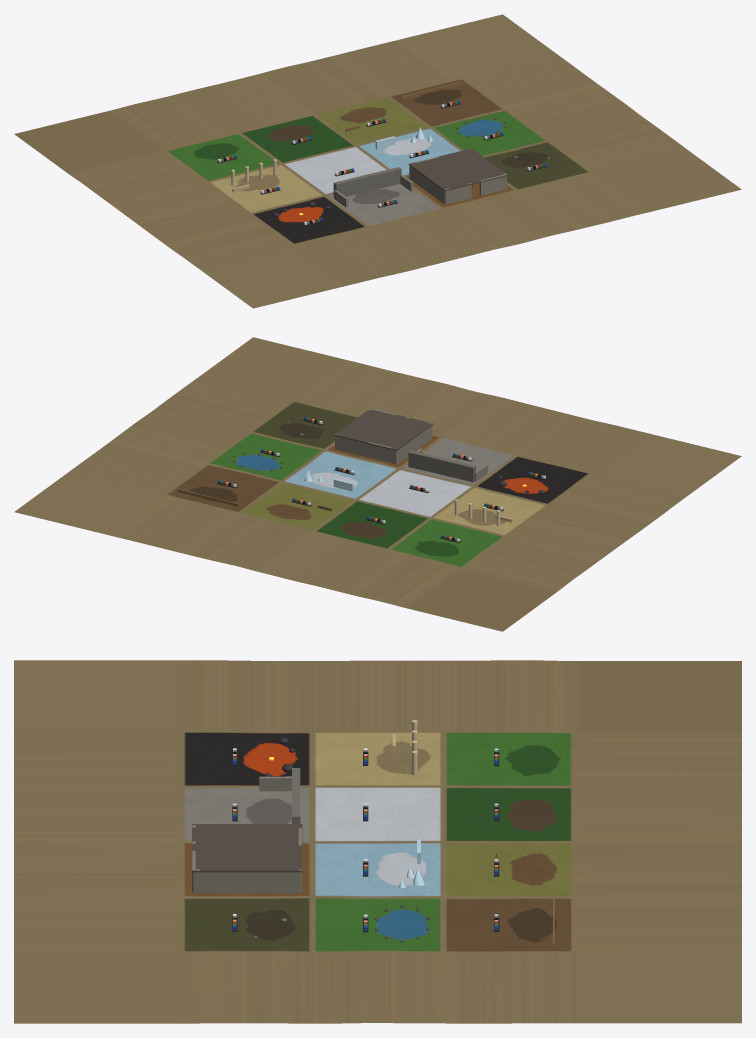
The model's file is tonelab.glb.
3 renders of one model, top to bottom at view 1: azimuth 30°, elevation 25°; view 2: azimuth 150°, elevation 25°; view 3: azimuth 270°, elevation 25°, orthographic. The views are drawn at different scales.
Parts seen in each view (by area): view 1: ground, mb_static_5, mb_static_4, mb_static_3; view 2: ground, mb_static_5, mb_static_4, mb_static_3; view 3: ground, mb_static_5, mb_static_4.
Part boxes in pixels (x1,y1,x2,y2): ground: [14, 14, 741, 308]; mb_static_5: [408, 148, 507, 191]; mb_static_4: [334, 148, 506, 207]; mb_static_3: [333, 167, 401, 196]; ground: [14, 337, 741, 631]; mb_static_5: [334, 408, 433, 450]; mb_static_4: [335, 408, 487, 481]; mb_static_3: [408, 450, 475, 482]; ground: [14, 660, 741, 1023]; mb_static_5: [192, 824, 302, 872]; mb_static_4: [192, 776, 301, 892].
Bounding box in the file's own units: 210 × 7.02 × 178.
